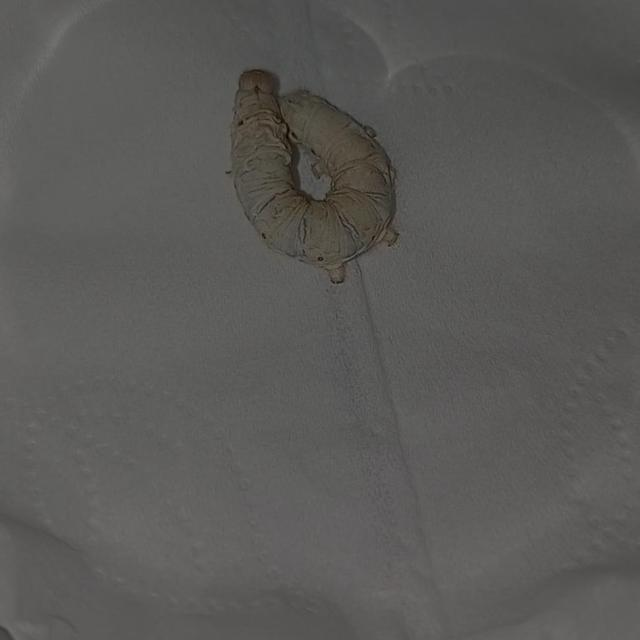Healthy: (199, 40, 439, 303)
